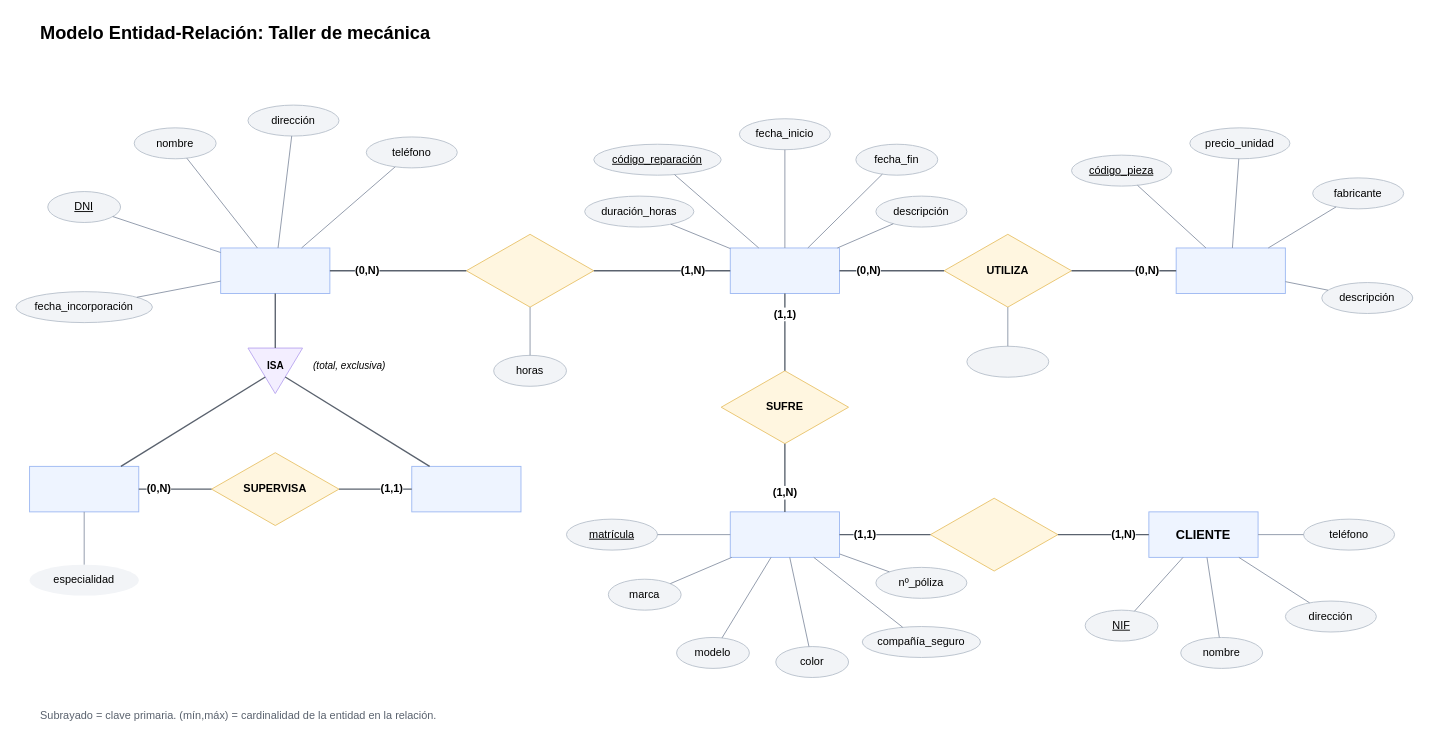
Some shapes in this 1429 by 737 pixel diagram are drawn without their labels. The centre of each missing label's shape, as x and y in pixels:
APRENDIZ: [466,488]
EMPLEADO: [275,270]
MECÁNICO: [84,488]
PARTICIPA: [529,270]
PERTENECE: [994,534]
PIEZA: [1230,270]
REPARACIÓN: [784,270]
unidades: [1007,361]
VEHÍCULO: [784,534]
